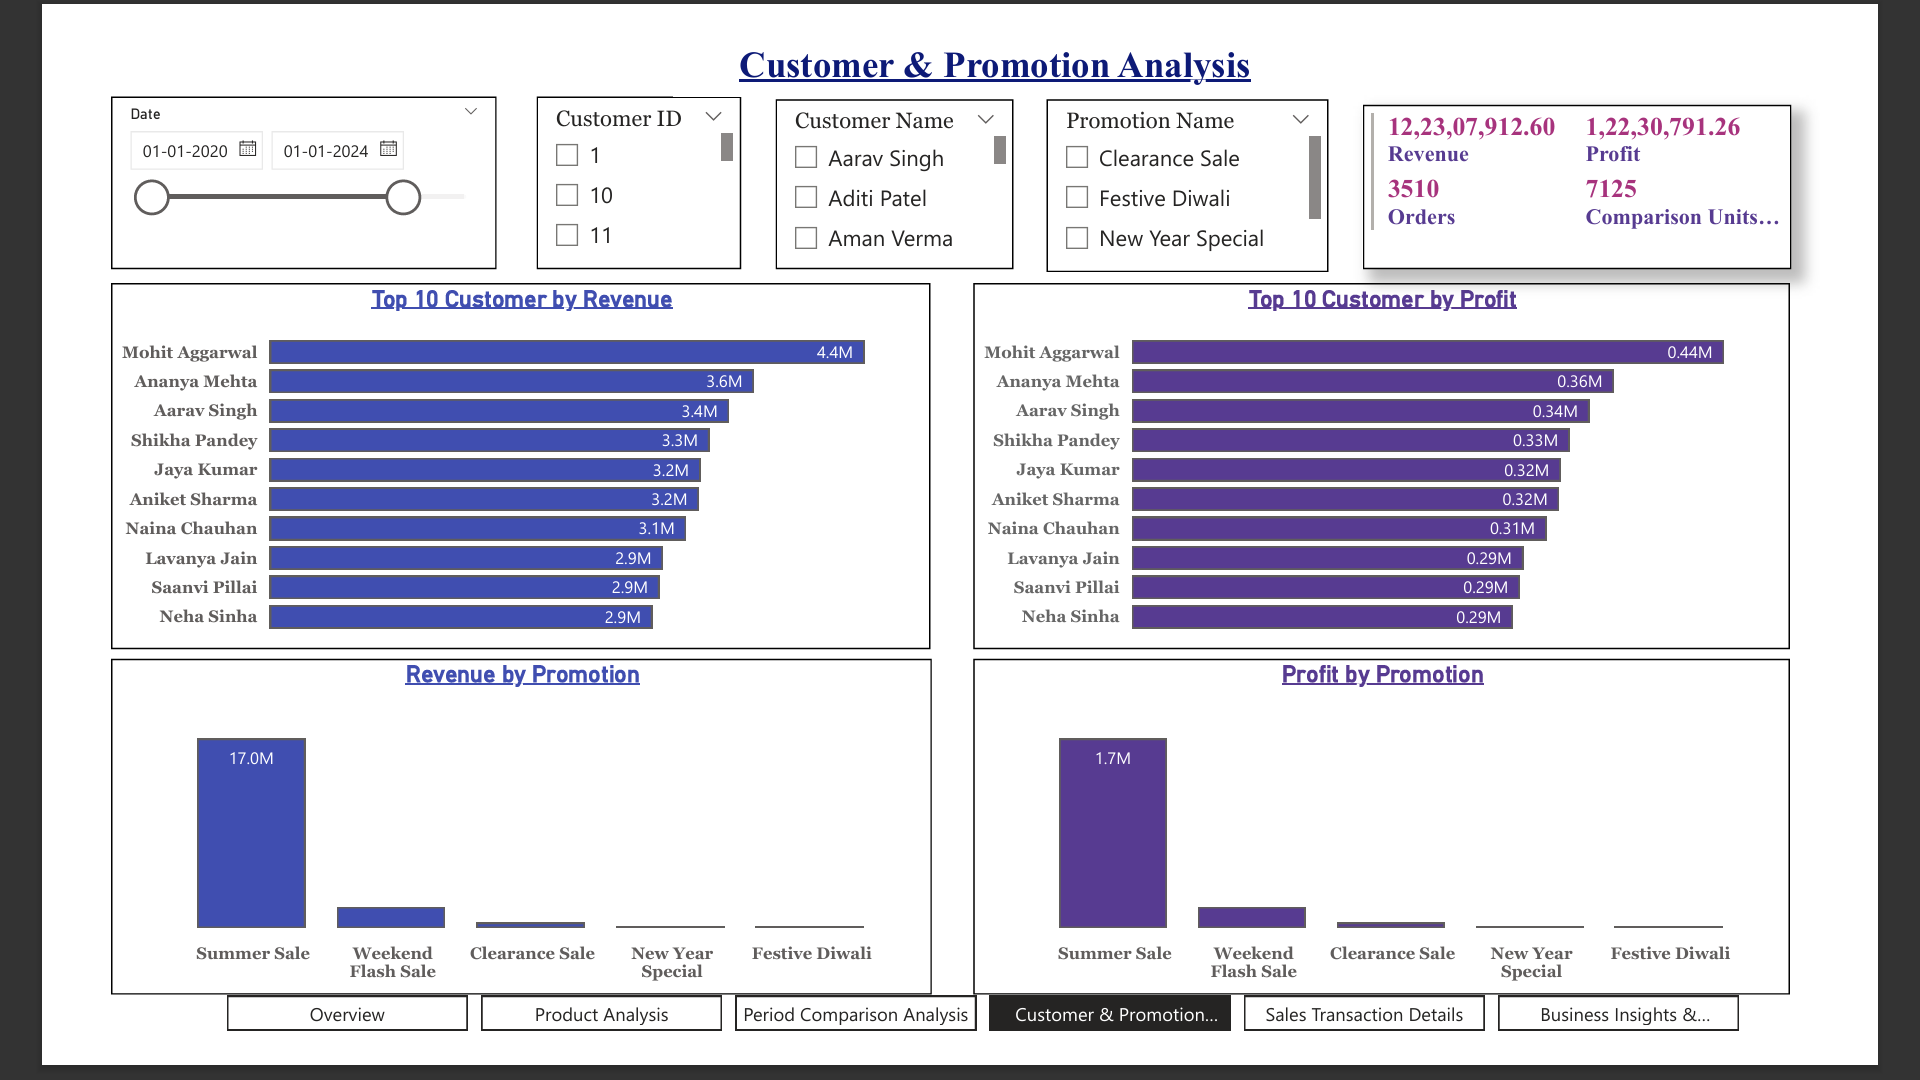

This screenshot's page, from the dashboard's own definition file:
{"tool":"powerbi","page":{"name":"Customer & Promotion Analysis","canvas":[1280,720],"ordinal":3},"visuals":[{"type":"slicer","fields":{"Values":["Date Table 1.Date"]},"box":[26.2,43.4,278.6,124.9],"z":0},{"type":"slicer","fields":{"Values":["Dim Customers.Customer ID"]},"box":[333.6,43.4,148.2,124.9],"z":1000},{"type":"slicer","fields":{"Values":["Dim Customers.Customer Name"]},"box":[506.5,44.8,172.9,123.5],"z":2000},{"type":"slicer","fields":{"Values":["Dim Promotion.Promotion Name"]},"box":[702.7,44.8,204.5,124.9],"z":3000},{"type":"clusteredBarChart","title":"Top 10 Customer by Revenue","fields":{"Category":["Dim Customers.Customer Name"],"Y":["Measure Table.Revenue"]},"box":[26.2,177.9,592.8,264.8],"z":4000},{"type":"clusteredBarChart","title":"Top 10 Customer by Profit","fields":{"Category":["Dim Customers.Customer Name"],"Y":["Measure Table.Profit"]},"box":[649.8,178.4,591.7,265],"z":5000},{"type":"columnChart","title":"Revenue by Promotion","fields":{"Category":["Dim Promotion.Promotion Name"],"Y":["Measure Table.Revenue"]},"box":[26.2,449.8,593.3,243.3],"z":6000},{"type":"columnChart","title":"Profit by Promotion","fields":{"Category":["Dim Promotion.Promotion Name"],"Y":["Measure Table.Profit"]},"box":[649.6,449.8,591.7,243.3],"z":7000},{"type":"multiRowCard","fields":{"Values":["Measure Table.Revenue","Measure Table.Profit","Measure Table.Orders","Measure Table.Quantity Sold"]},"box":[931.9,48.9,310.1,119.4],"z":8000},{"type":"pageNavigator","box":[109.7,693.8,1097.8,24.7],"z":9000},{"type":"textbox","box":[433.3,0,465,43.3],"z":10000}]}

Visuals, with their boxes in screenshot pixels (x1, y1, x2, y2), scaled from the page's 1280x720 canvas onto the 1920x1080 screenshot:
slicer - Date Table 1.Date: box=[39, 65, 457, 252]
slicer - Dim Customers.Customer ID: box=[500, 65, 723, 252]
slicer - Dim Customers.Customer Name: box=[760, 67, 1019, 252]
slicer - Dim Promotion.Promotion Name: box=[1054, 67, 1361, 255]
"Top 10 Customer by Revenue" clusteredBarChart: box=[39, 267, 928, 664]
"Top 10 Customer by Profit" clusteredBarChart: box=[975, 268, 1862, 665]
"Revenue by Promotion" columnChart: box=[39, 675, 929, 1040]
"Profit by Promotion" columnChart: box=[974, 675, 1862, 1040]
multiRowCard - Measure Table.Revenue x Measure Table.Profit: box=[1398, 73, 1863, 252]
pageNavigator: box=[165, 1041, 1811, 1078]
textbox: box=[650, 0, 1347, 65]
